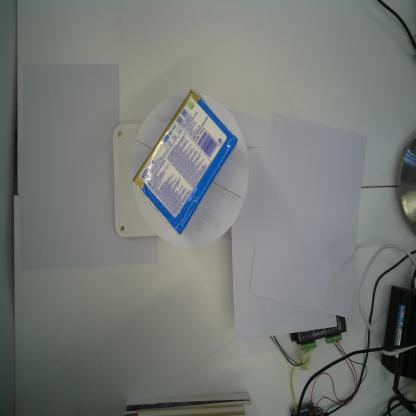Tissue: (130, 87, 238, 238)
